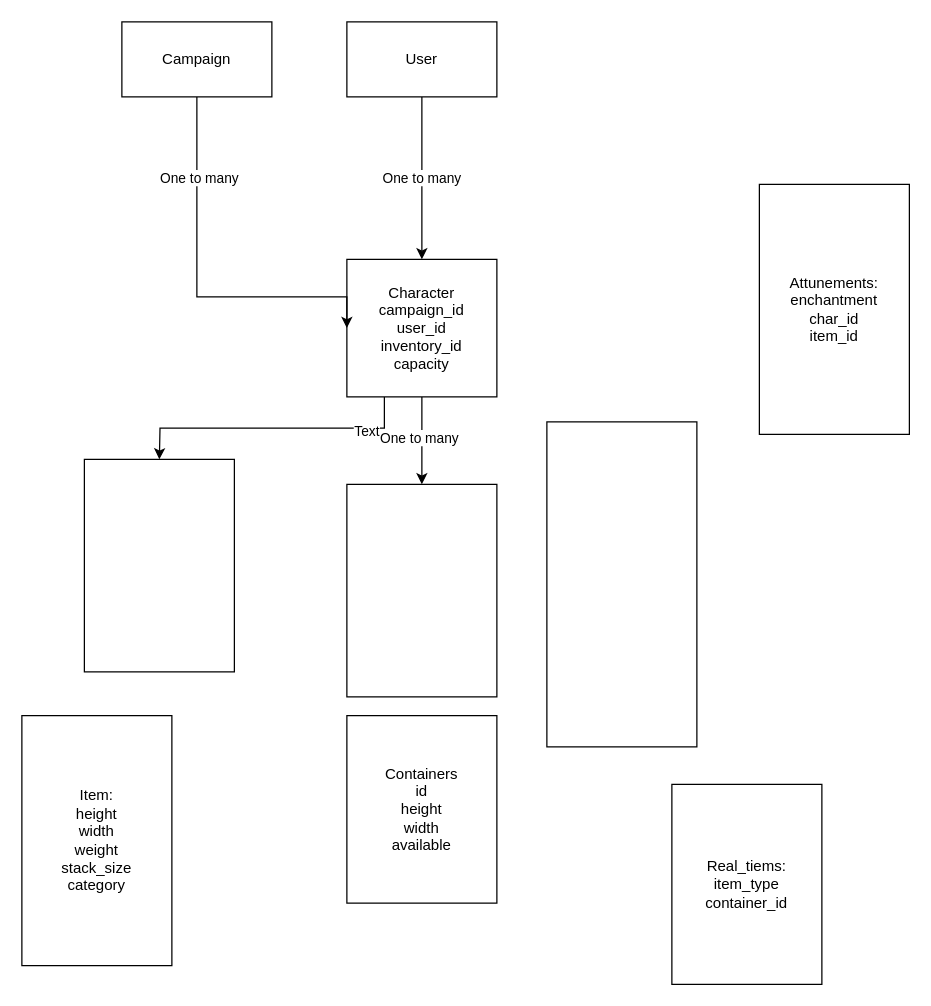
This 931x1006 diagram has some shape labels left out. The box of each missing label's shape, as (x1, y1, x2, y2) in pixels:
Cell: container_id character_id x_coord y_coord occupied_by: nullable fk: (546, 421, 697, 747)
Equiped armor: nullable fk weapon 1 weapon 2 weapon 3 ring1: (83, 458, 234, 672)
Inventory (m2m): char_id container_id: (346, 483, 497, 697)
